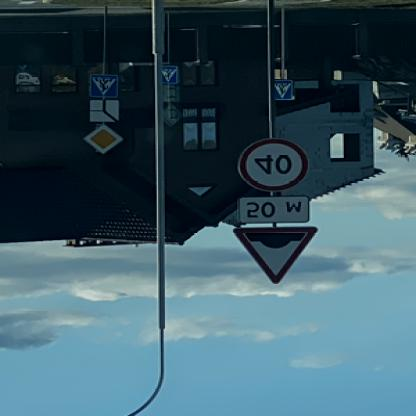crosswalk: (89, 76, 115, 99), (270, 81, 290, 101), (158, 68, 176, 86)
speedlimit: (237, 140, 308, 192)
